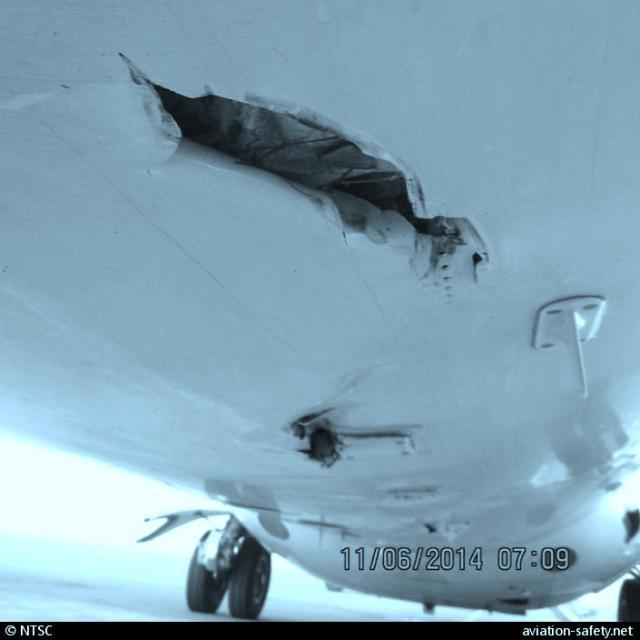crack: (125, 57, 492, 282)
